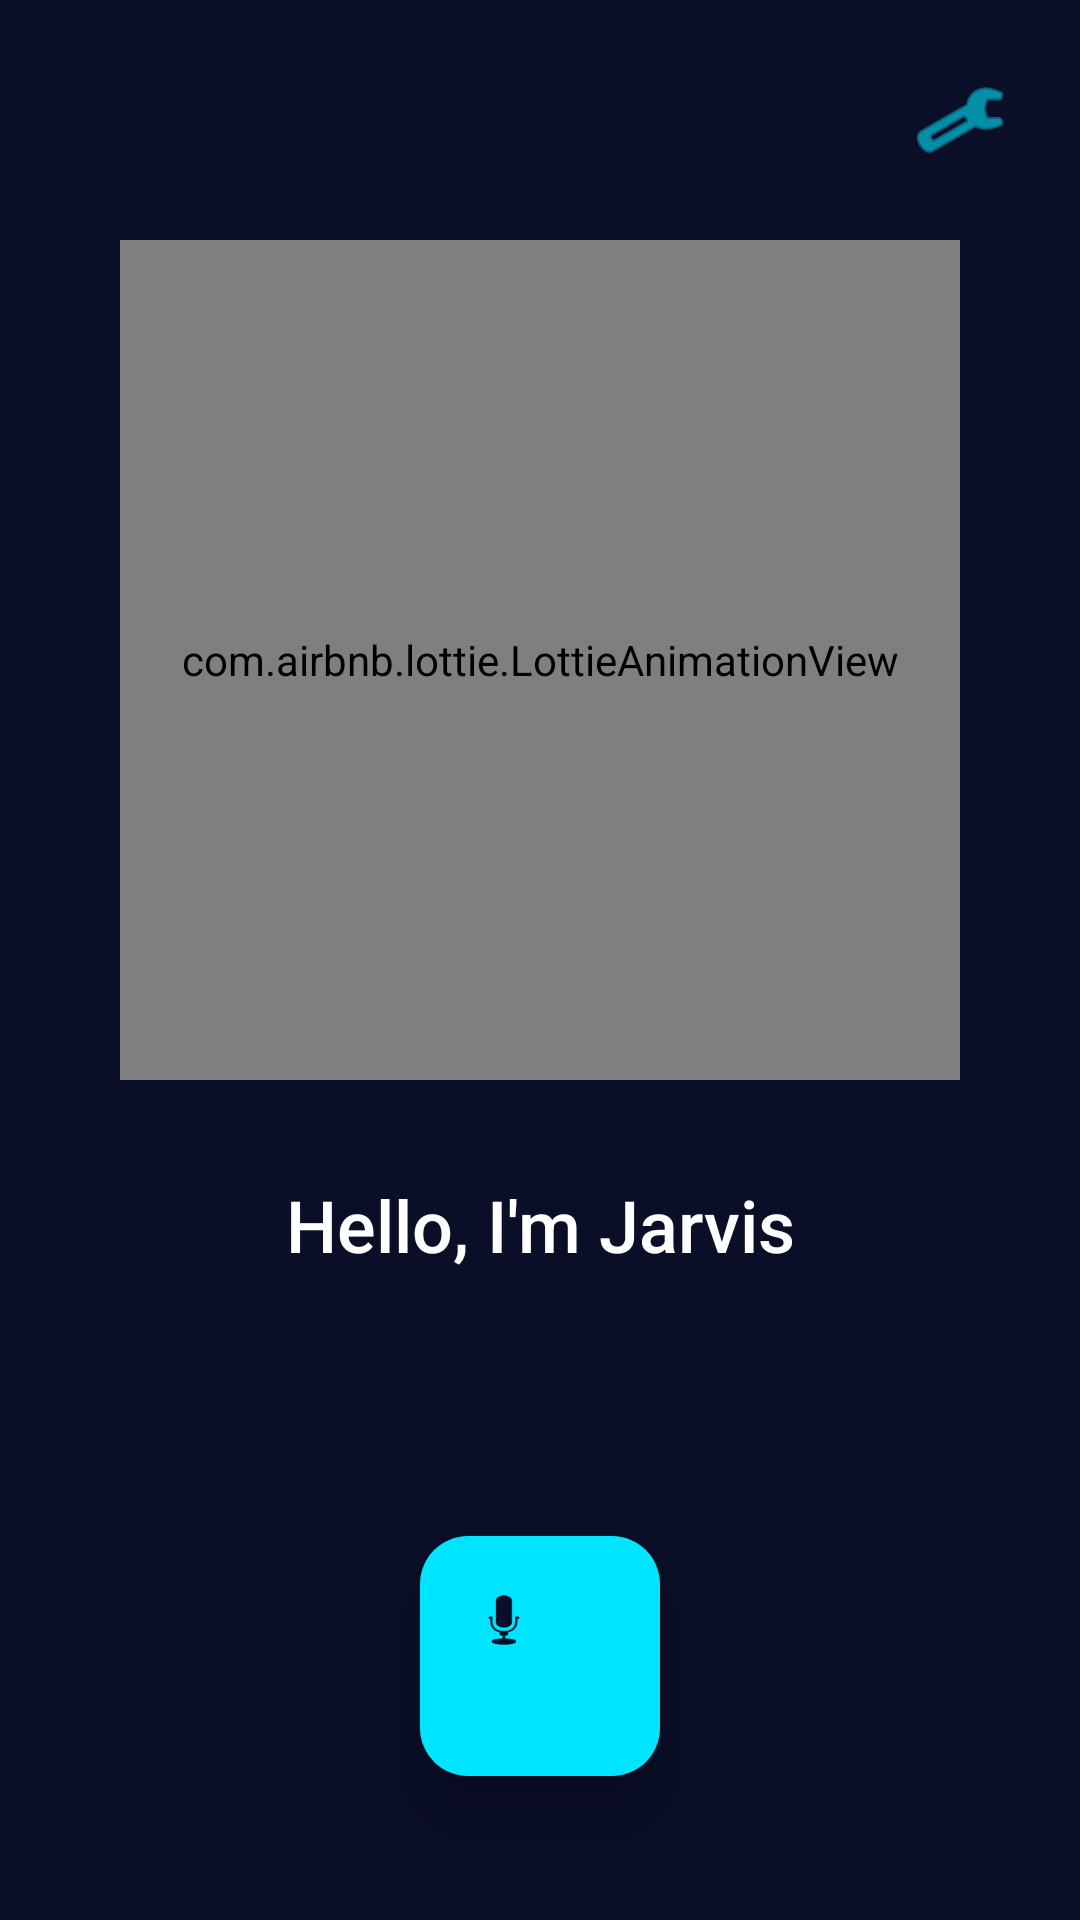

Named icons in this screenshot (1080 × 1920) and their centers, (x,y):
Settings: (960,120)
Tap to speak: (540,1656)
